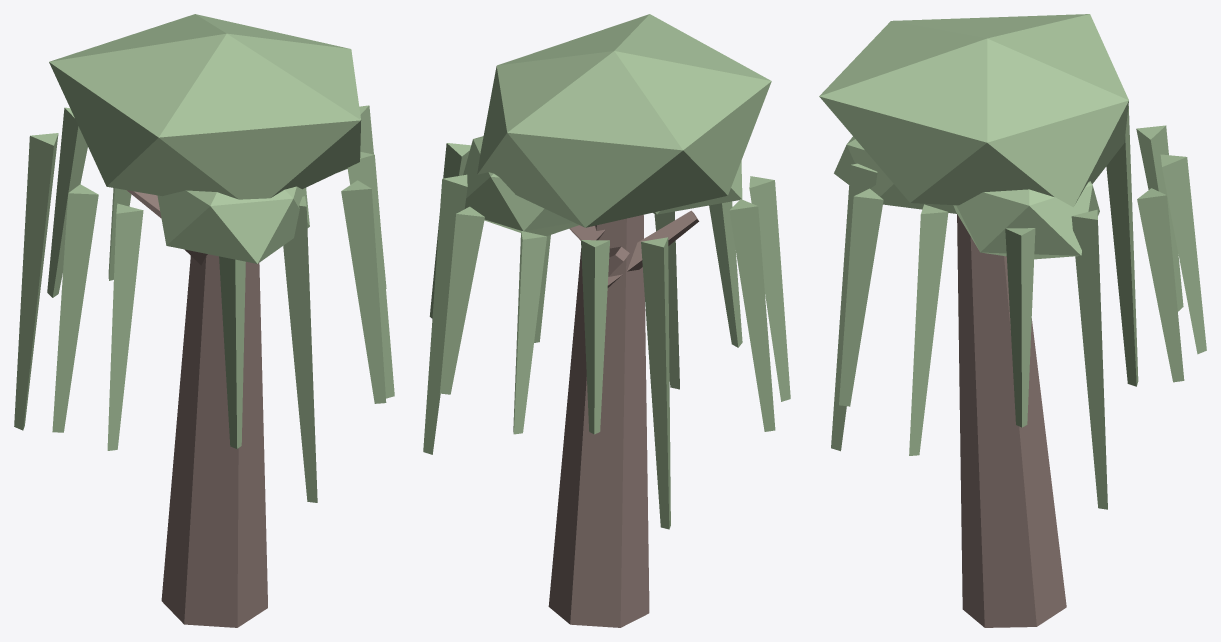
Rendered from arv_salgueiro_5_sem_textura.glb.
The picture shows the model from 3 angles, left to right: view 1: azimuth 30°, elevation 25°; view 2: azimuth 150°, elevation 25°; view 3: azimuth 270°, elevation 25°; orthographic projection. The views are drawn at different scales.
Parts seen in each view (by area): view 1: arv_salgueiro_5; view 2: arv_salgueiro_5; view 3: arv_salgueiro_5.
Boxes of the visible parts, <box> form: arv_salgueiro_5: <box>14,14,394,627</box>; arv_salgueiro_5: <box>423,14,790,627</box>; arv_salgueiro_5: <box>819,14,1206,627</box>.
Bounding box in the file's own units: 0.9058 × 1.45 × 0.889.
